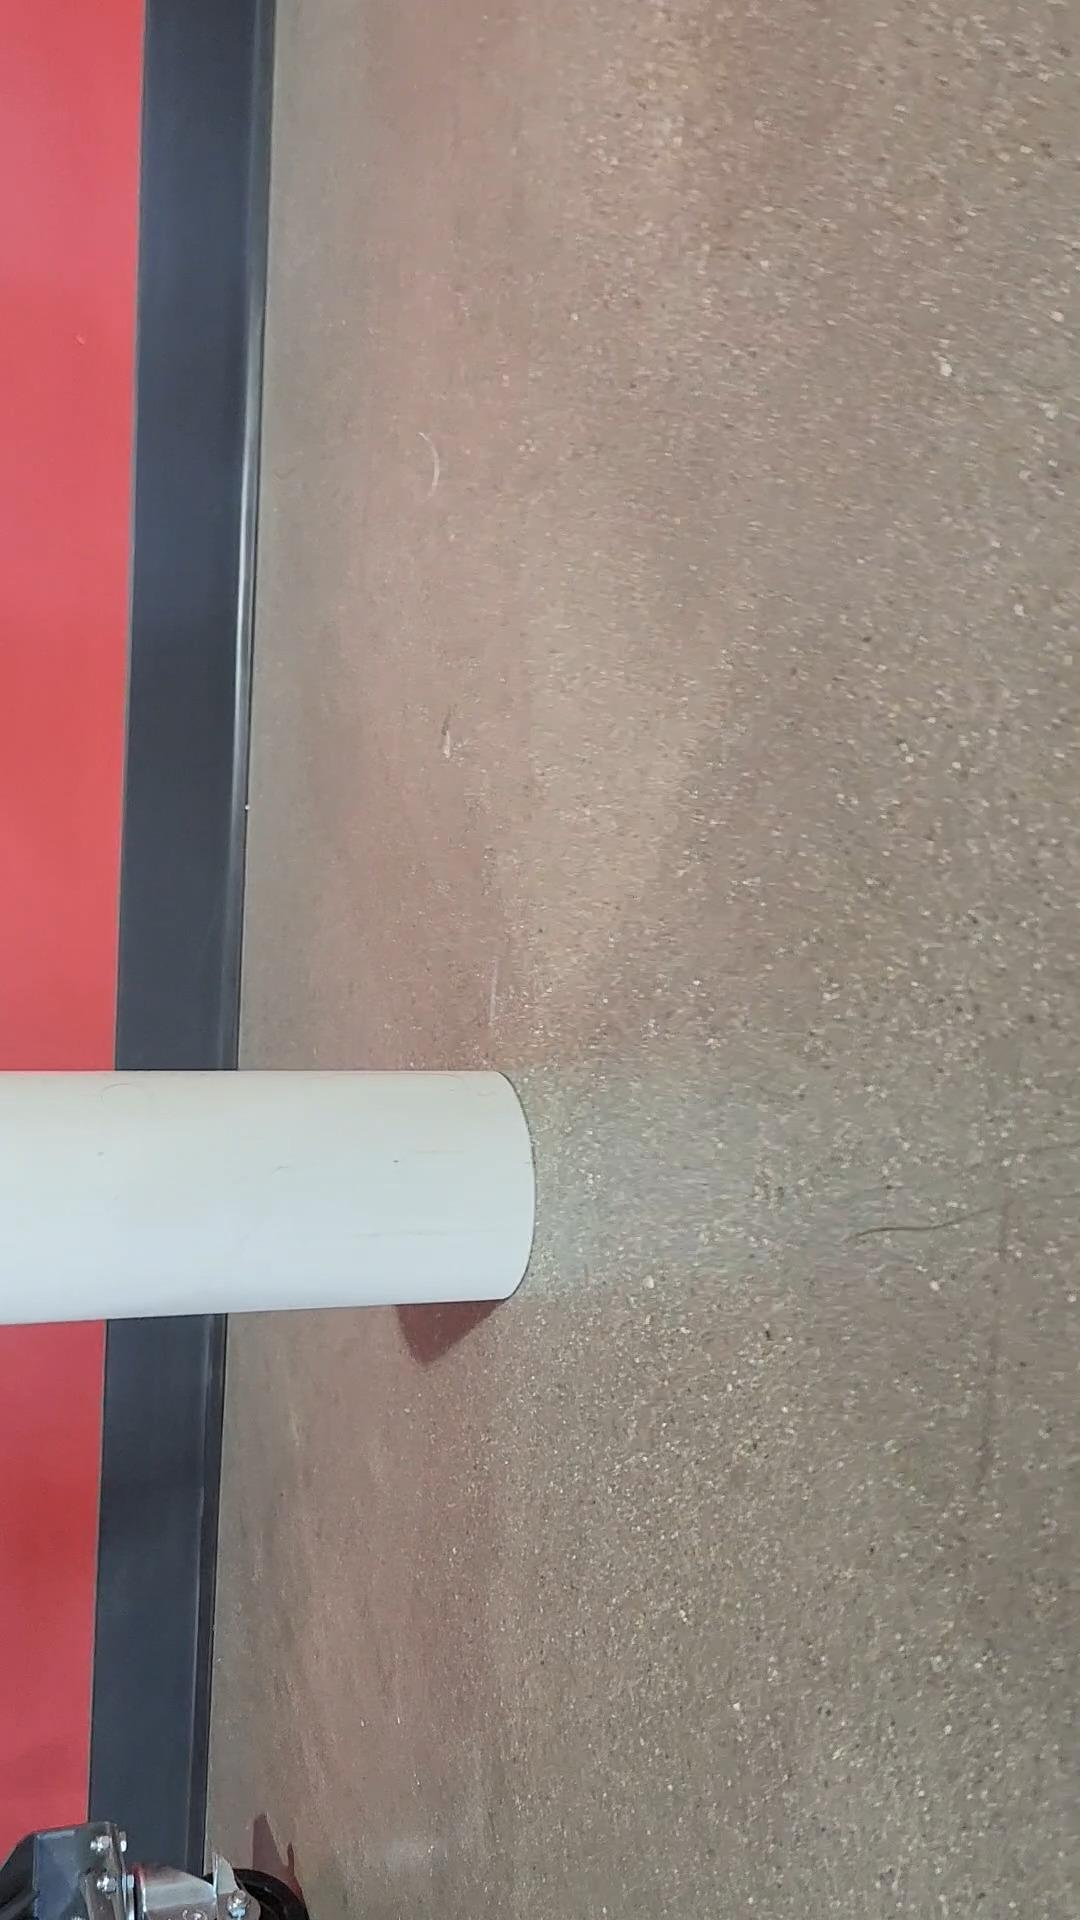coral: (0, 1054, 547, 1331)
